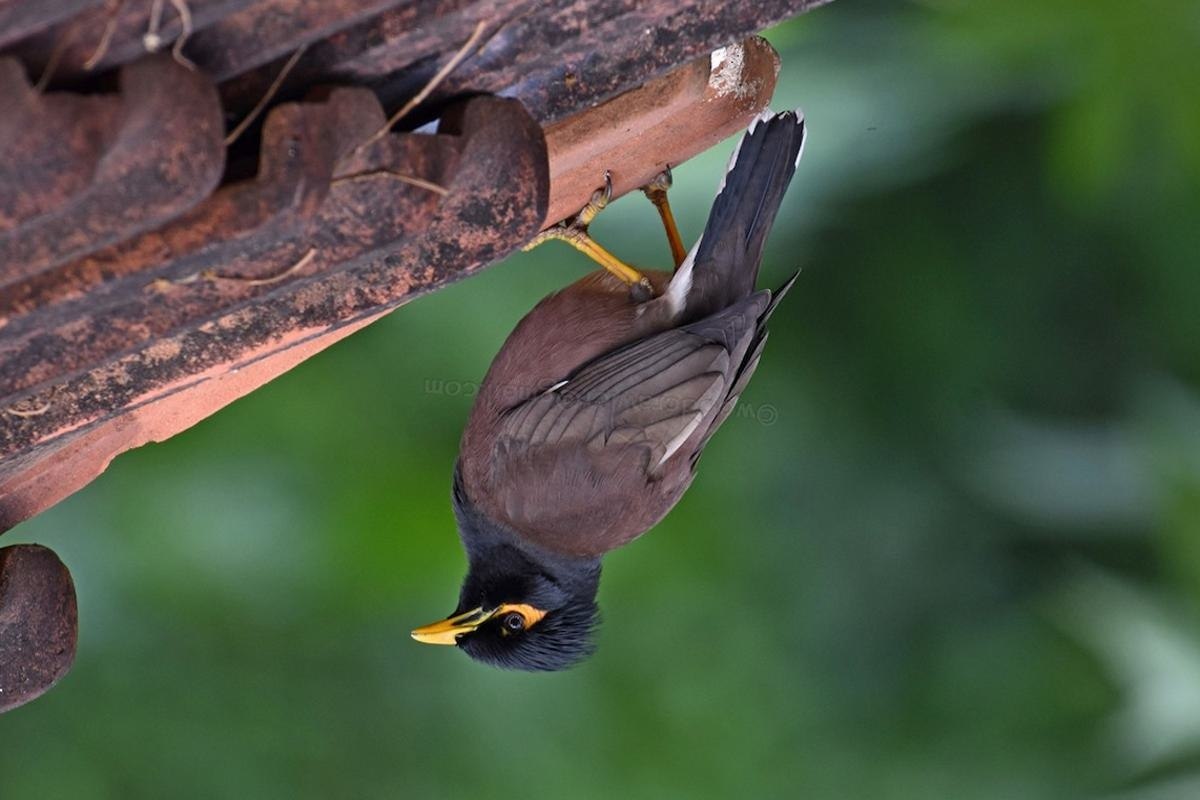myna: (400, 72, 868, 692)
